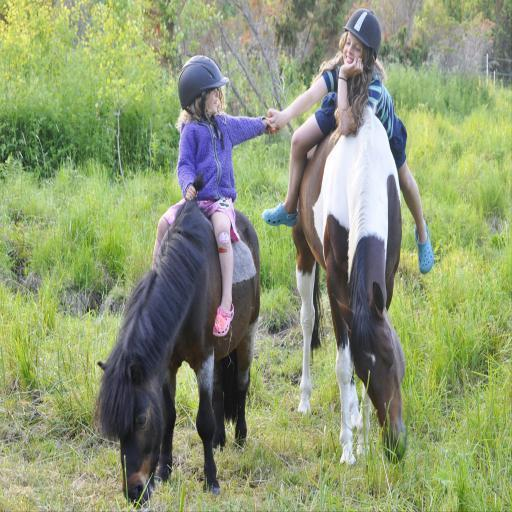horse: (92, 170, 262, 510), (290, 102, 406, 468)
